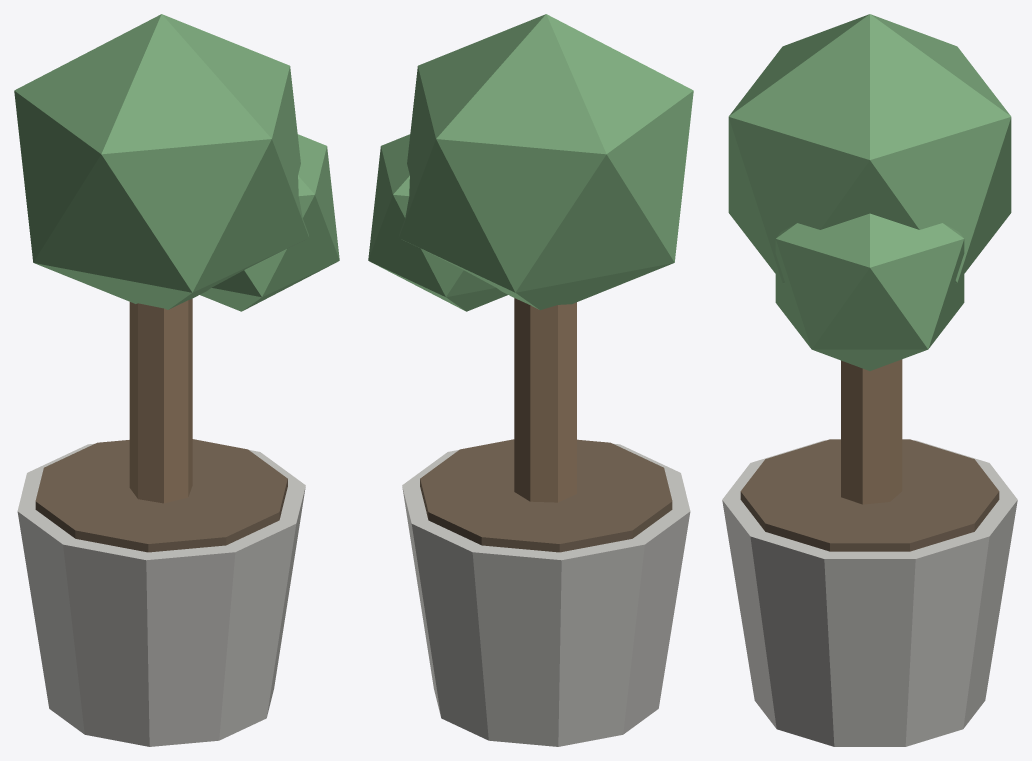
The model's file is pla_ficus.glb.
3 views of the same model, side by side, from view 1: azimuth 30°, elevation 25°; view 2: azimuth 150°, elevation 25°; view 3: azimuth 270°, elevation 25° (orthographic).
Parts seen in each view (by area): view 1: PLA_FICUS_v01; view 2: PLA_FICUS_v01; view 3: PLA_FICUS_v01.
Boxes of the visible parts, <box> form: PLA_FICUS_v01: <box>14,14,339,746</box>; PLA_FICUS_v01: <box>368,14,693,746</box>; PLA_FICUS_v01: <box>722,14,1017,746</box>.
Bounding box in the file's own units: 0.3683 × 0.82 × 0.32.
